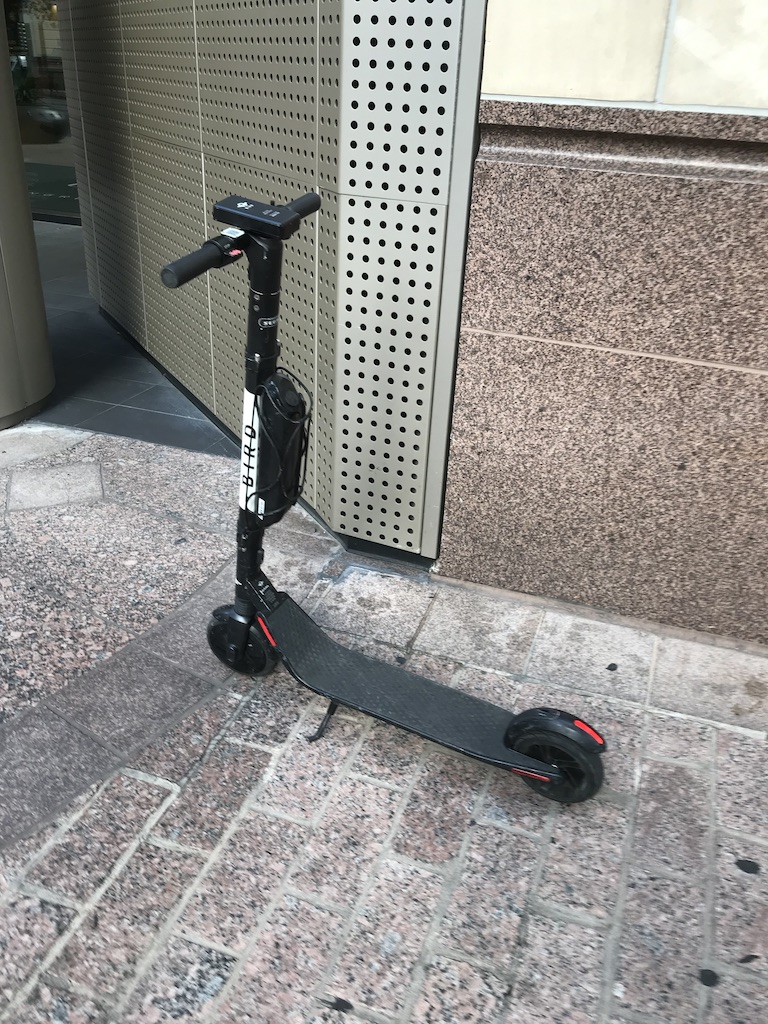scooter: (157, 192, 610, 804)
